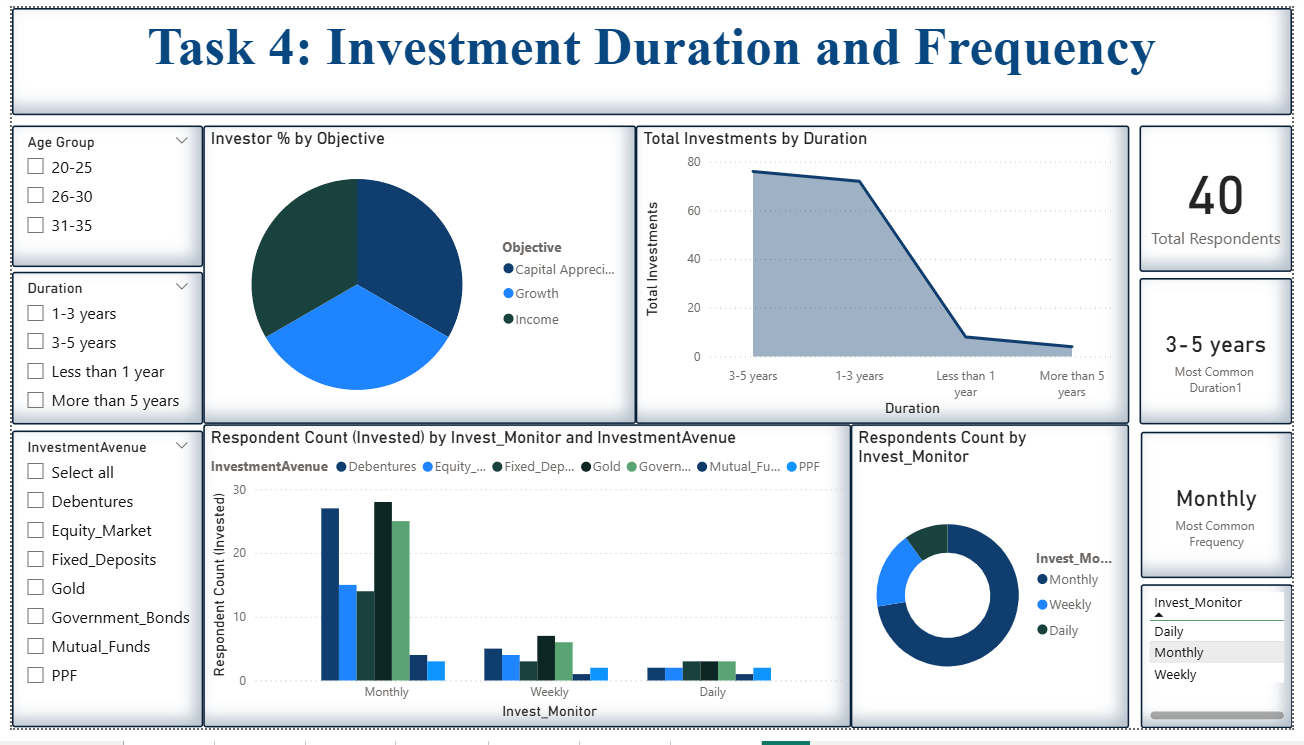

What the dashboard file says about the page in this screenshot:
{"tool":"powerbi","page":{"name":" Task 4","canvas":[1280,720],"ordinal":3},"visuals":[{"type":"textbox","box":[0,0,1280,107.5],"z":0},{"type":"slicer","fields":{"Values":["Cognifyz_Dataset.Age Group"]},"box":[0,117.1,191.4,141.4],"z":1000},{"type":"donutChart","fields":{"Category":["Cognifyz_Dataset.Invest_Monitor"],"Y":["Cognifyz_Dataset.Respondents Count"]},"box":[838.8,416.2,278.8,303.8],"z":2000},{"type":"pieChart","title":"Investor % by Objective","fields":{"Y":["Cognifyz_Dataset.Investor % by Objective"],"Category":["Cognifyz_Dataset.Objective"]},"box":[191.2,117.5,432.5,298.8],"z":3000},{"type":"areaChart","fields":{"Y":["Cognifyz_Dataset.Total Investments"],"Category":["Cognifyz_Dataset.Duration"]},"box":[623.8,117.5,493.8,298.8],"z":4000},{"type":"slicer","fields":{"Values":["Cognifyz_Dataset.InvestmentAvenue"]},"box":[0,422.9,191.4,297.1],"z":5000},{"type":"slicer","fields":{"Values":["Cognifyz_Dataset.Duration"]},"box":[0,264.3,191.4,152.9],"z":6000},{"type":"clusteredColumnChart","fields":{"Category":["Cognifyz_Dataset.Invest_Monitor"],"Y":["Cognifyz_Dataset.Respondent Count (Invested)"],"Series":["Cognifyz_Dataset.InvestmentAvenue"]},"box":[191.4,416.4,647.9,303.6],"z":7000},{"type":"card","fields":{"Values":["Cognifyz_Dataset.Total Respondents"]},"box":[1127.5,117.4,152.9,146.7],"z":8000},{"type":"card","fields":{"Values":["Cognifyz_Dataset.Most Common Duration1"]},"box":[1127.5,270,152.5,146.7],"z":9000},{"type":"card","fields":{"Values":["Cognifyz_Dataset.Most Common Frequency"]},"box":[1128.3,423.3,151.7,146.7],"z":10000},{"type":"tableEx","fields":{"Values":["Cognifyz_Dataset.Invest_Monitor"]},"box":[1128.3,575.8,151.7,144.2],"z":11000}]}

Visuals, with their boxes in screenshot pixels (x1, y1, x2, y2), scaled from the page's 1280x720 canvas onto the 1304x745 screenshot:
textbox: 0,0,1303,111
slicer - Cognifyz_Dataset.Age Group: 0,121,195,267
donutChart - Cognifyz_Dataset.Invest_Monitor x Cognifyz_Dataset.Respondents Count: 855,431,1139,744
"Investor % by Objective" pieChart: 195,122,635,431
areaChart - Cognifyz_Dataset.Total Investments x Cognifyz_Dataset.Duration: 635,122,1139,431
slicer - Cognifyz_Dataset.InvestmentAvenue: 0,438,195,744
slicer - Cognifyz_Dataset.Duration: 0,273,195,432
clusteredColumnChart - Cognifyz_Dataset.Invest_Monitor x Cognifyz_Dataset.Respondent Count (Invested): 195,431,855,744
card - Cognifyz_Dataset.Total Respondents: 1149,121,1303,273
card - Cognifyz_Dataset.Most Common Duration1: 1149,279,1303,431
card - Cognifyz_Dataset.Most Common Frequency: 1149,438,1303,590
tableEx - Cognifyz_Dataset.Invest_Monitor: 1149,596,1303,744
